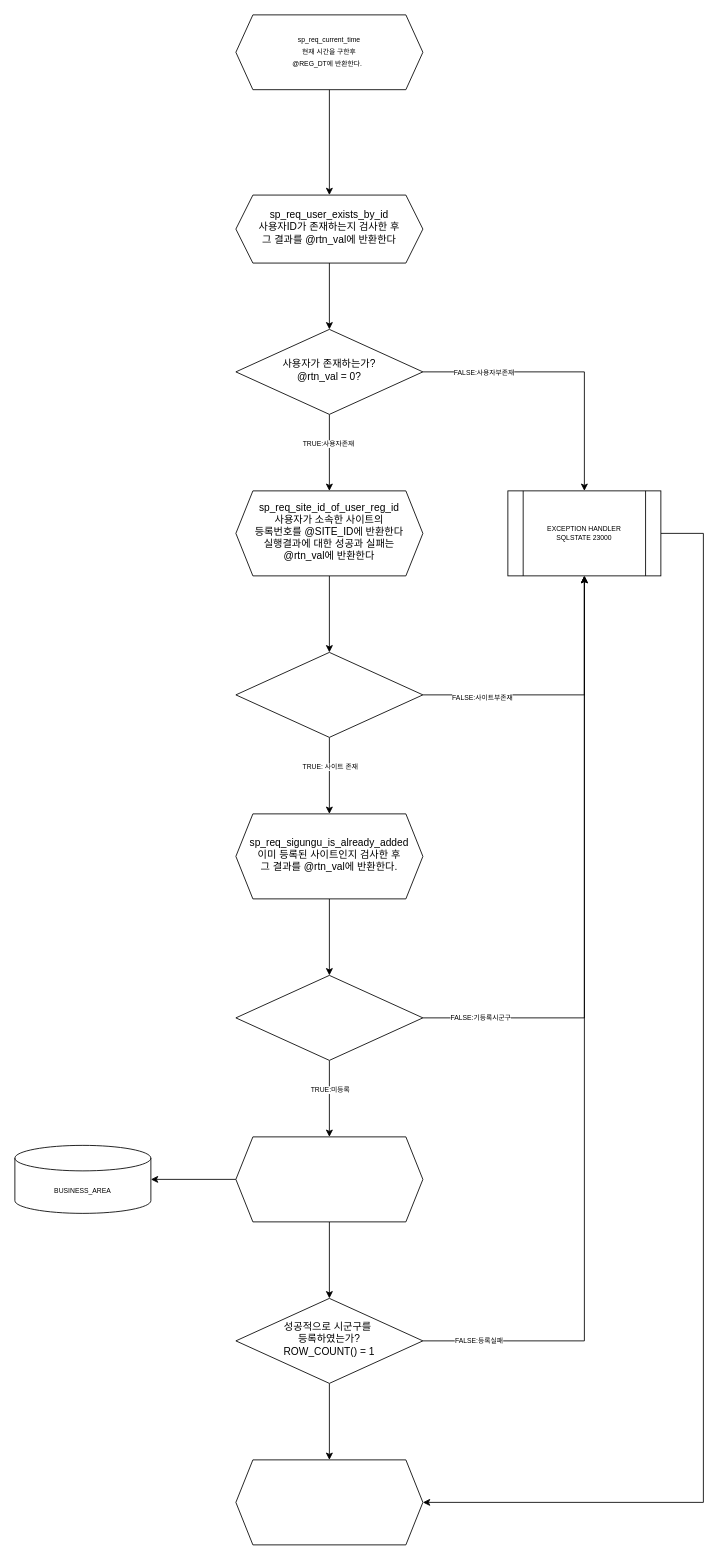
The diagram is 725 pixels wide and 1560 high, and some of its shapes have lost their labels. Each missing label, with the box of its shape:
sp_return_results (@rtn_val, @msg_txt, @json_data) 결과를 반환한다.: (235, 1459, 423, 1545)
사이트가 존재하는가? @rtn_val = 0?: (235, 652, 423, 737)
시군구를 관심지역으로 등록한다: (235, 1136, 423, 1222)
시군구를 이미 등록하였는가? @rtn_val=0?: (235, 975, 423, 1060)
